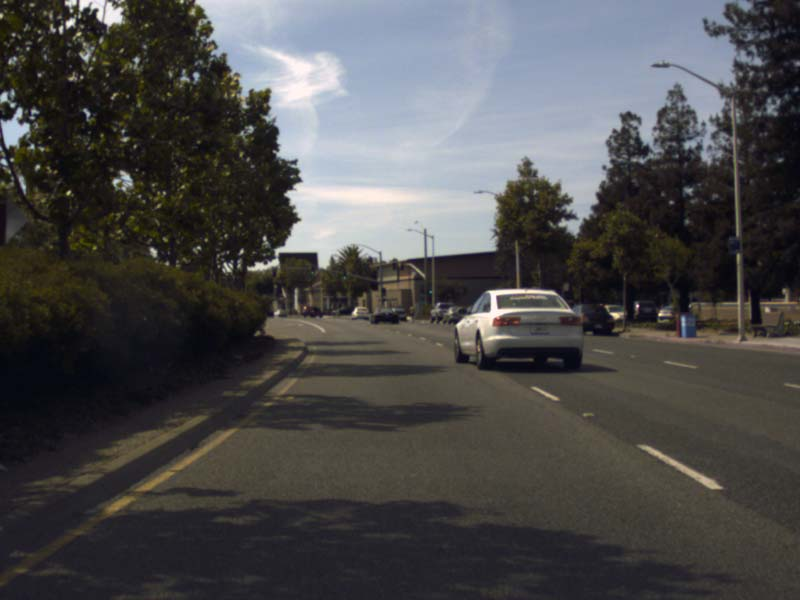Green: (428, 285, 433, 294), (310, 266, 314, 274), (343, 270, 346, 279)
